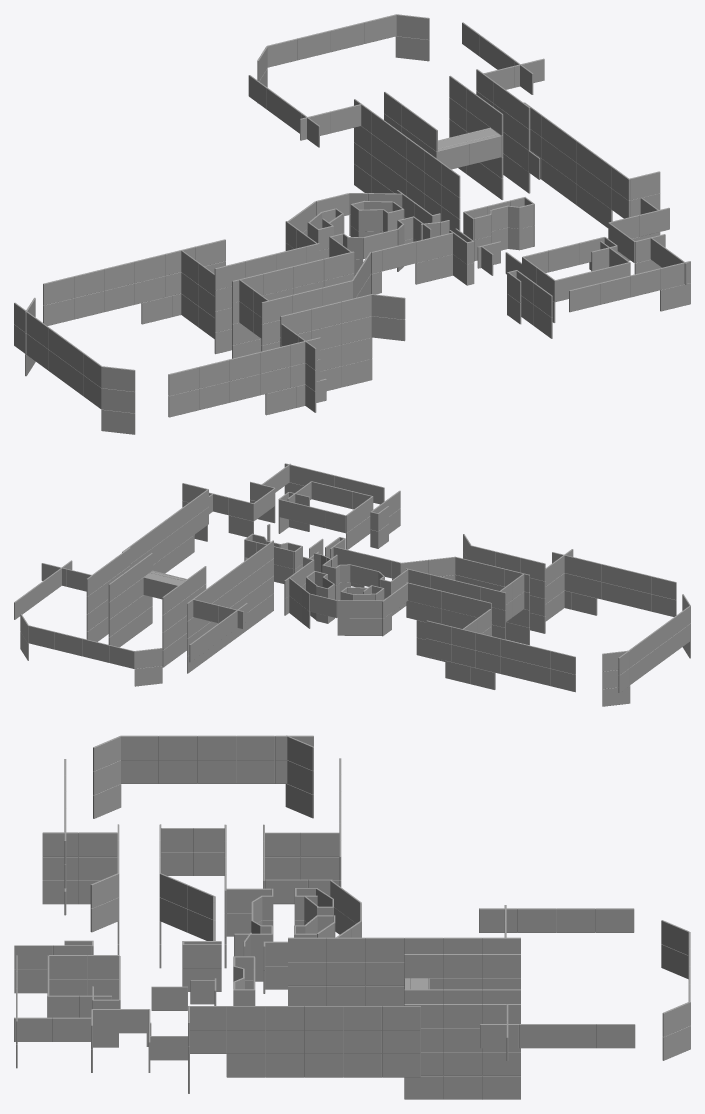
The model's file is walls.glb.
The picture shows the model from 3 angles, top to bottom: view 1: azimuth 30°, elevation 25°; view 2: azimuth 150°, elevation 25°; view 3: azimuth 270°, elevation 25°; orthographic projection. The views are drawn at different scales.
Parts seen in each view (by area): view 1: cube_fix285; view 2: cube_fix285; view 3: cube_fix285.
Part boxes in pixels (<box>): cube_fix285: <box>14,14,690,434</box>; cube_fix285: <box>14,463,690,706</box>; cube_fix285: <box>14,735,690,1099</box>.
Bounding box in the file's own units: 298 × 49.61 × 255.
Materials: 1 (1 with a texture image).
